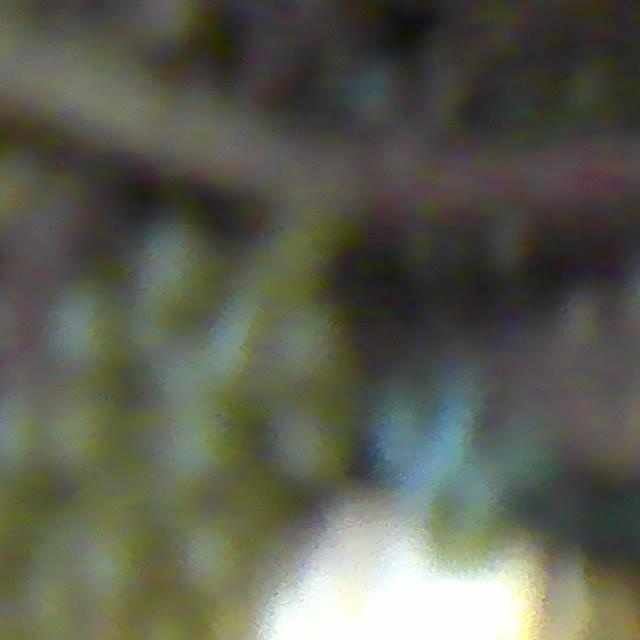SeaGrape: (185, 496, 291, 609), (129, 219, 217, 310), (39, 280, 126, 371), (51, 522, 138, 603), (160, 411, 243, 493), (271, 407, 351, 487), (58, 410, 138, 483), (298, 329, 385, 396), (0, 383, 52, 476)
